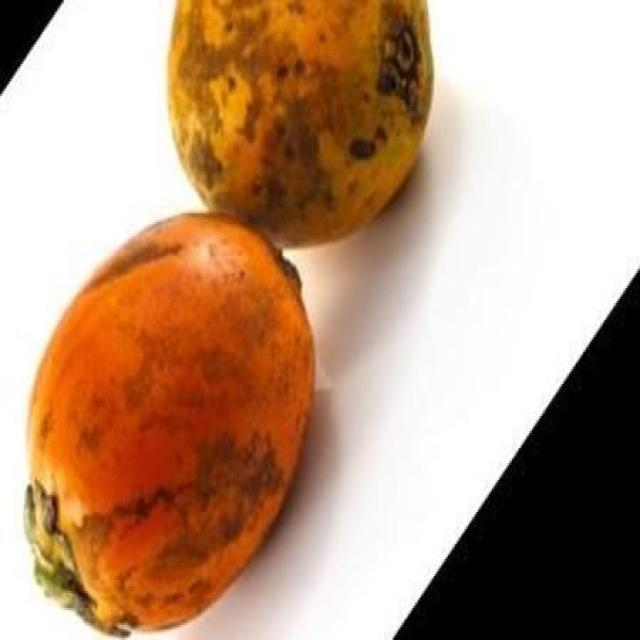good: (21, 213, 316, 636), (165, 0, 435, 252)
